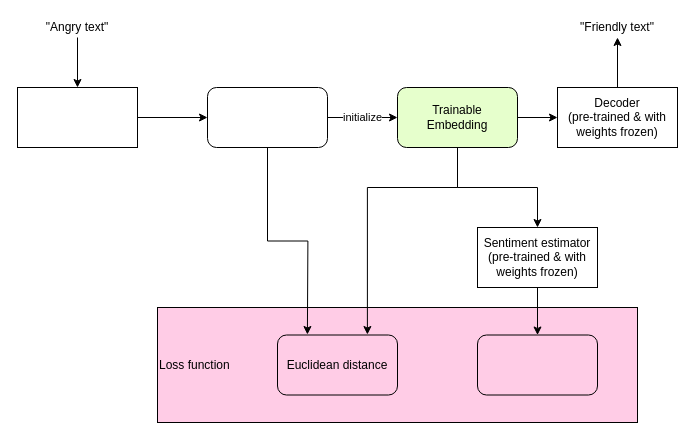
This 695x440 diagram has some shape labels left out. Each missing label, with the centre of its shape:
BERT encoder (pre-trained & with weights frozen): the point at 77,117
Initial Embedding: the point at 267,117
Sentiment: the point at 537,364
